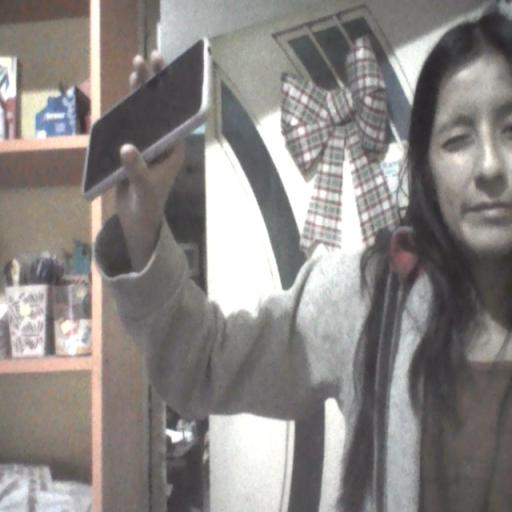phone: (78, 31, 213, 203)
